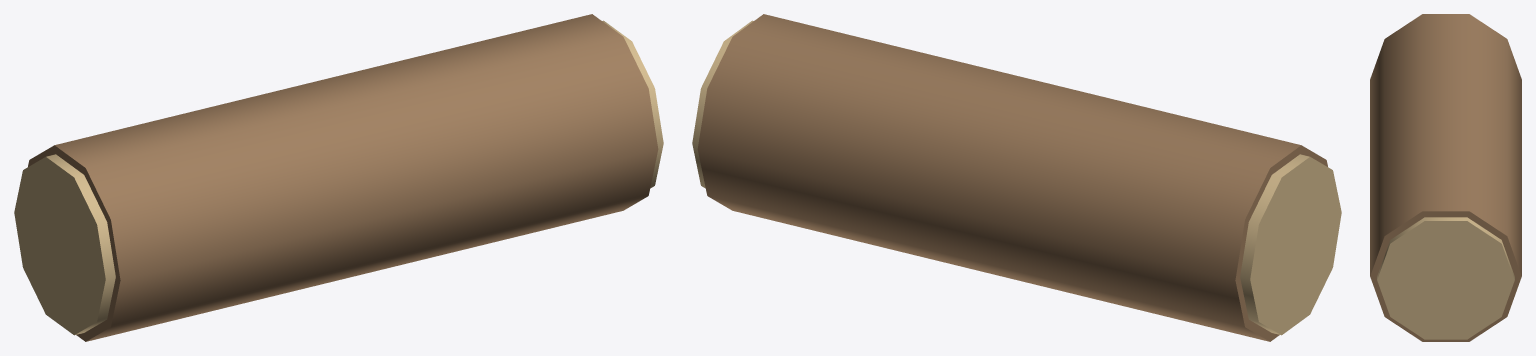
Rendered from fuel_log.glb.
The picture shows the model from 3 angles, left to right: view 1: azimuth 30°, elevation 25°; view 2: azimuth 150°, elevation 25°; view 3: azimuth 270°, elevation 25°; orthographic projection. The views are drawn at different scales.
Parts seen in each view (by area): view 1: mesh; view 2: mesh; view 3: mesh.
Boxes of the visible parts, box(x1,y1,x2,y2) form: mesh: box(14, 14, 663, 341); mesh: box(692, 14, 1341, 341); mesh: box(1370, 14, 1521, 341).
Bounding box in the file's own units: 0.83 × 0.2473 × 0.26.
